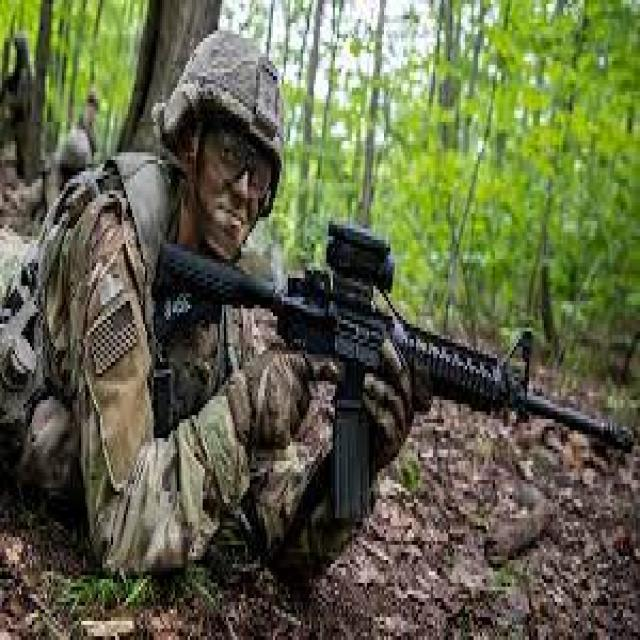m16: (136, 155, 636, 586)
